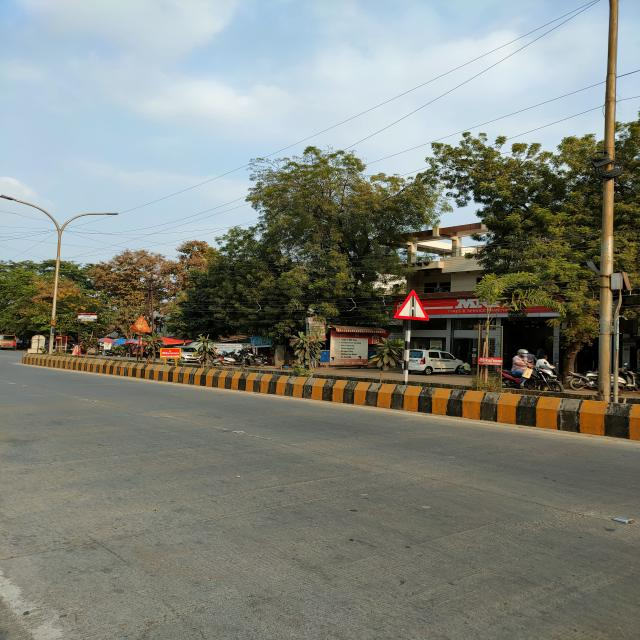ferry: (393, 290, 431, 321)
